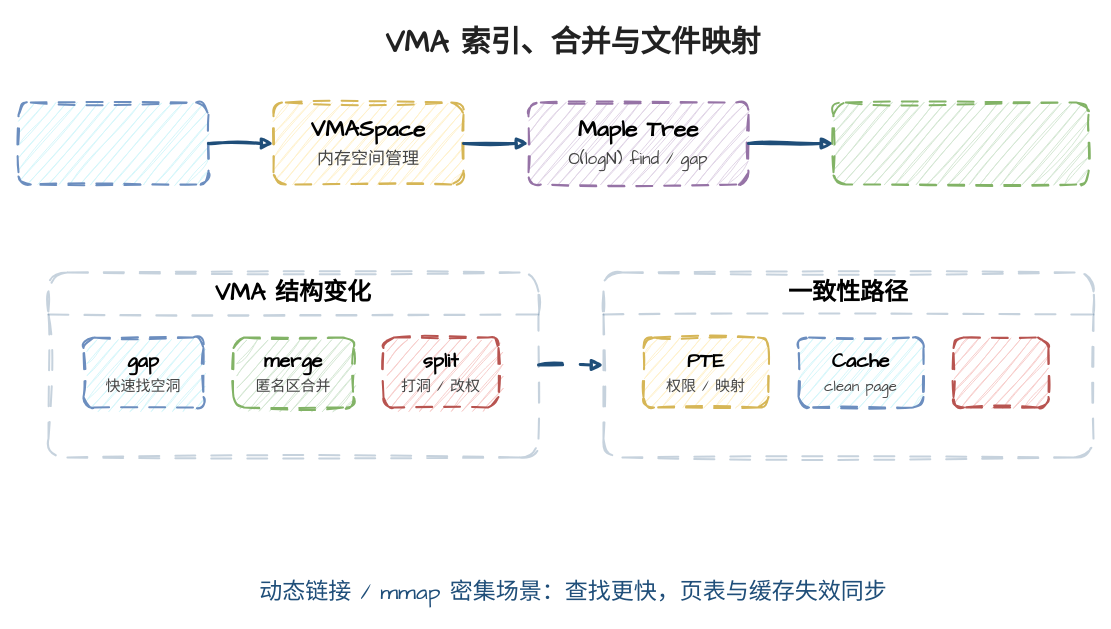
Image size: 1111x629. Some labels were removed from this diagram. The centre of each missing label's shape, as x and y in pixels:
"syscall mmap / munmap" goes at [113,143].
"TLB shootdown" goes at [1000,372].
"VmObject Anon / File 后端" goes at [960,143].
